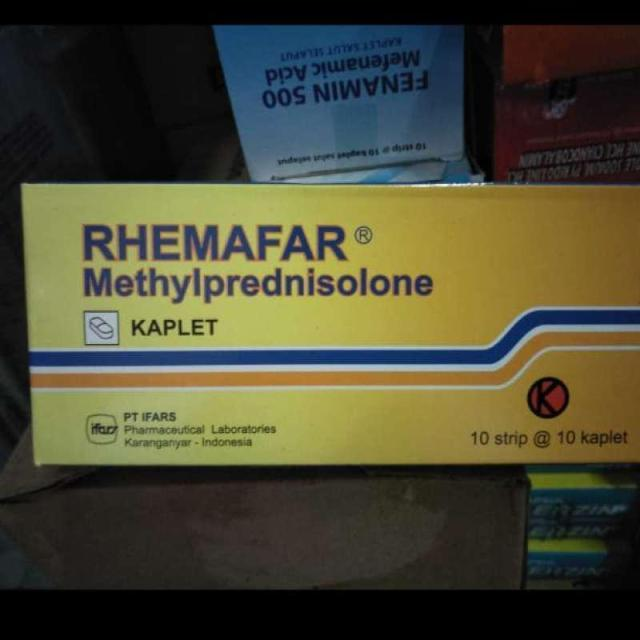drug-name: (80, 220, 376, 262)
